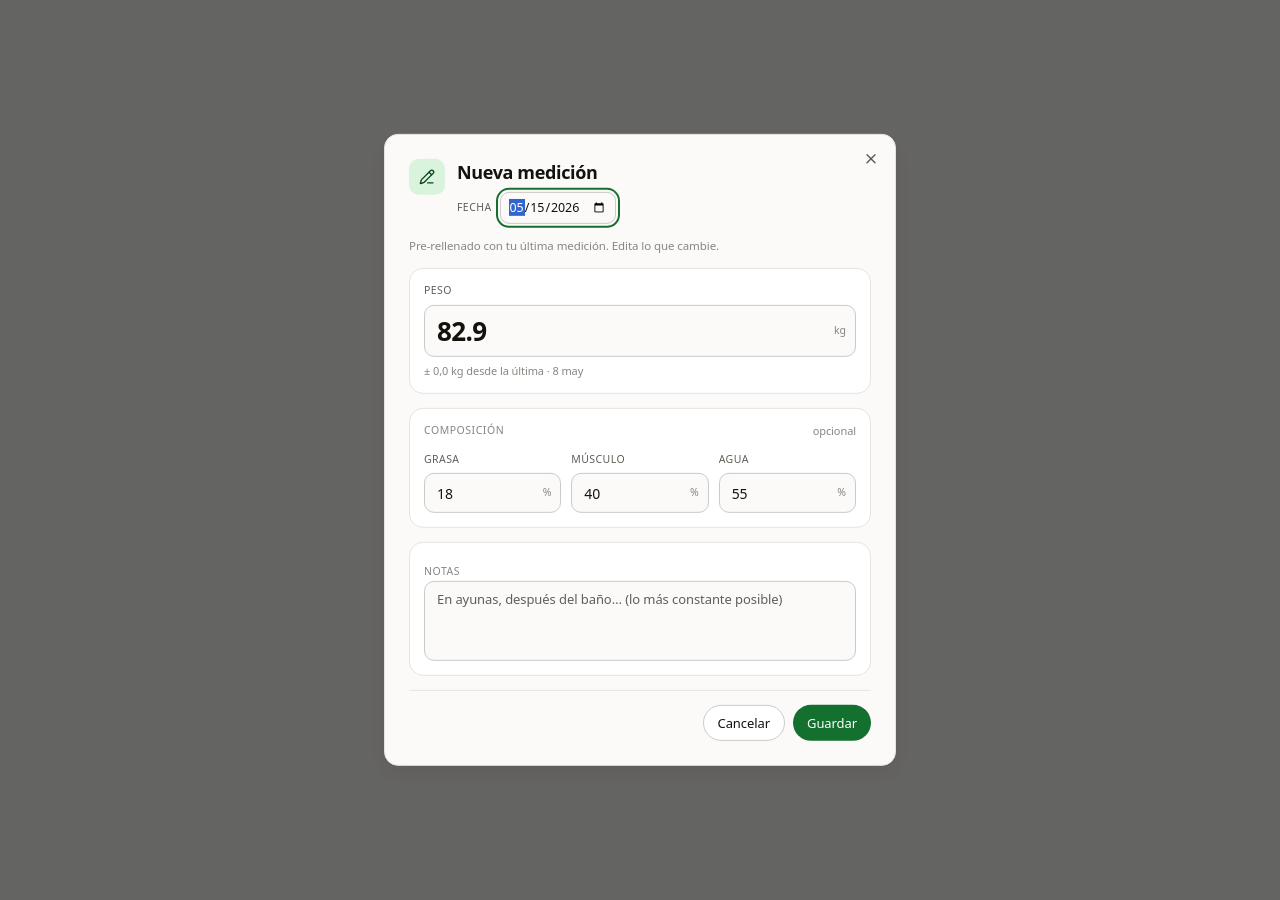
Test: MeasurementDialog — the responsive shell › shows the delta against the previous measurement
Expected: the text "± 0,0 kg desde la última · 8 may" is shown, 424,362 -> 583,377
Clear the field labelled "Peso": (640, 330) 424,304 -> 856,356
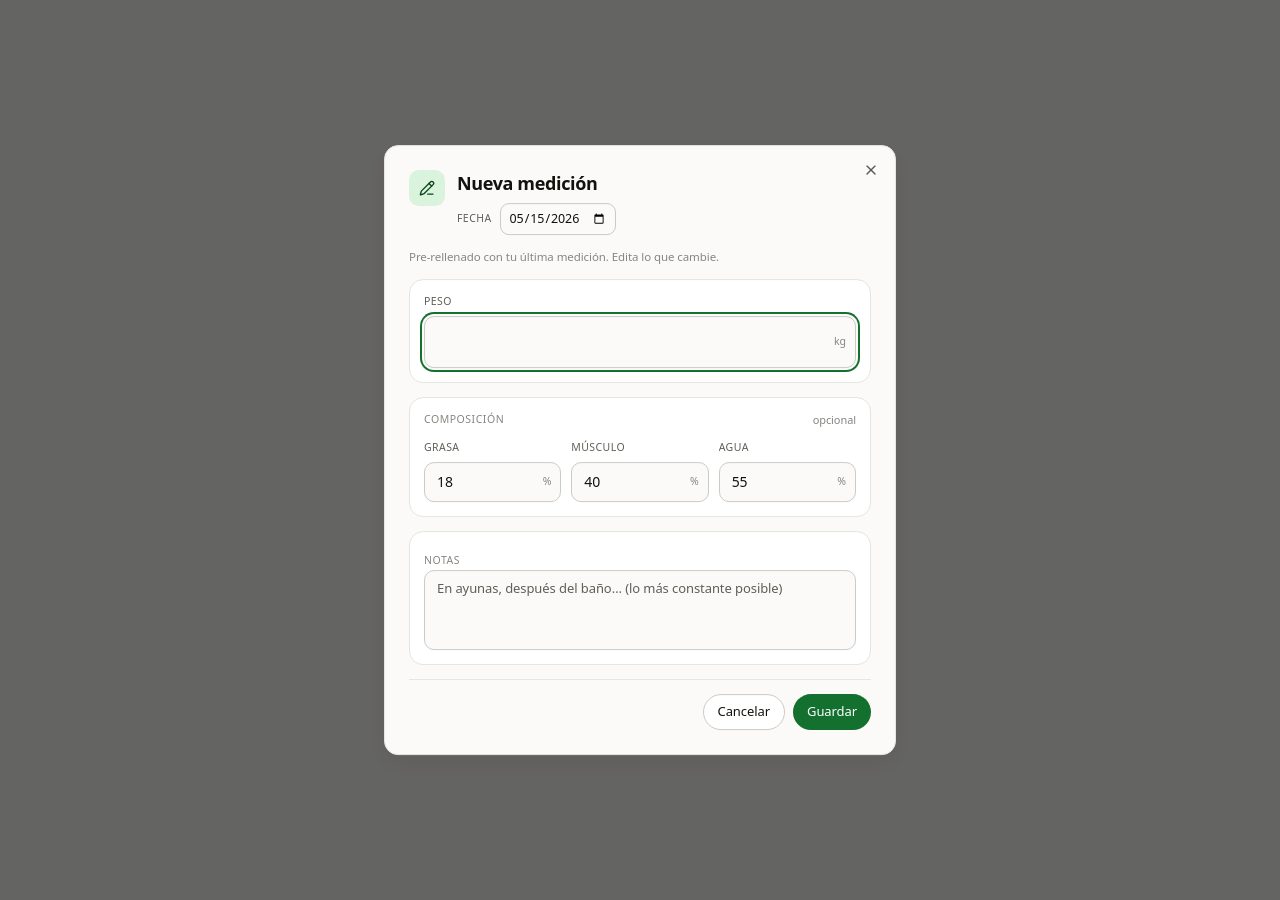
In the field labelled "Peso": (640, 342) 424,316 -> 856,368, type "82,6"
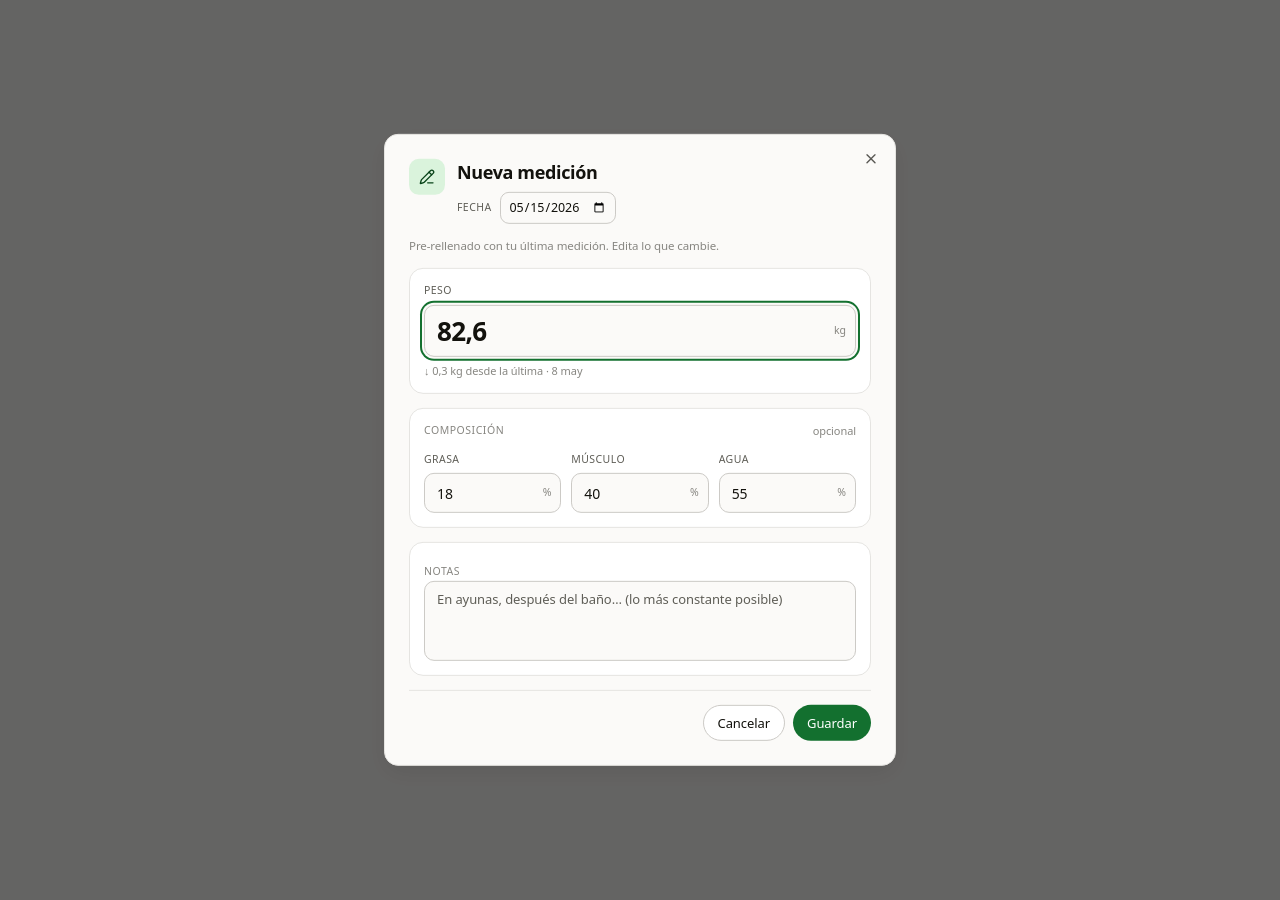
Now the text "↓ 0,3 kg desde la última · 8 may" is shown, box 424,362 -> 582,377
